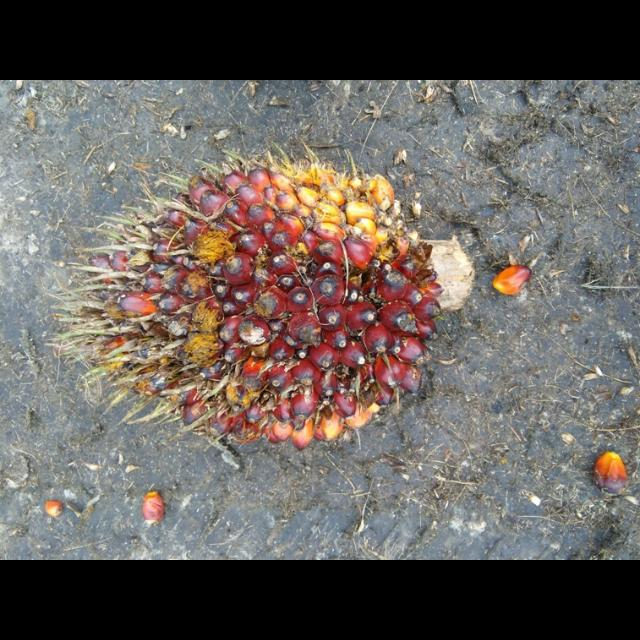Ripe: (54, 148, 473, 449)
